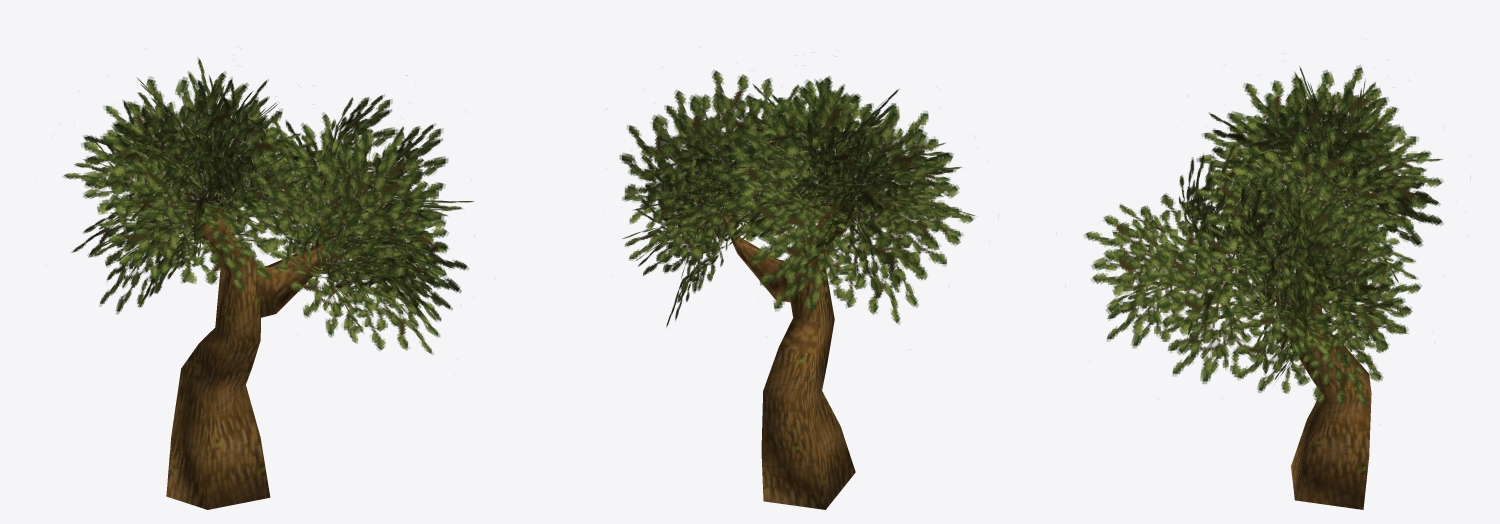
File: Arbre1.glb
3 renders of one model, left to right at view 1: azimuth 30°, elevation 25°; view 2: azimuth 150°, elevation 25°; view 3: azimuth 270°, elevation 25°, orthographic. The views are drawn at different scales.
Parts seen in each view (by area): view 1: Arbre; view 2: Arbre; view 3: Arbre.
Part boxes in pixels (x1,y1,x2,y2): Arbre: (62,57,473,509); Arbre: (619,70,975,509); Arbre: (1083,65,1443,509).
Size of the model in its own units: 12.3 by 12.25 by 10.83.
Materials: 2 (2 with a texture image).
